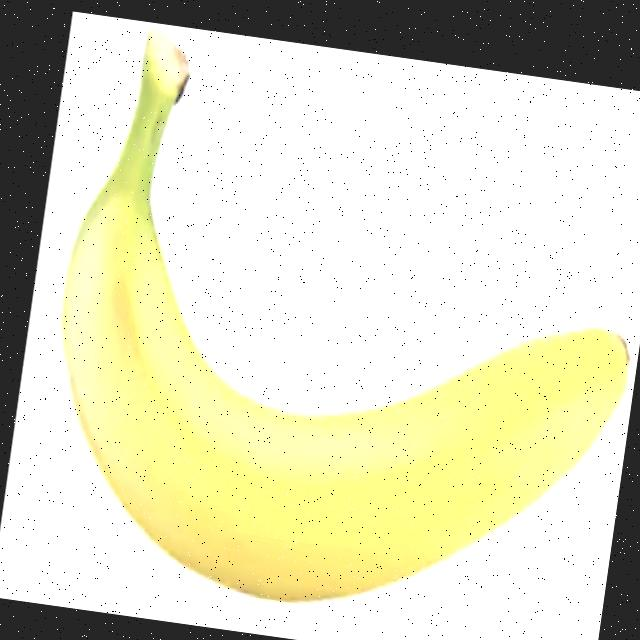Ripe: (16, 15, 640, 640)
